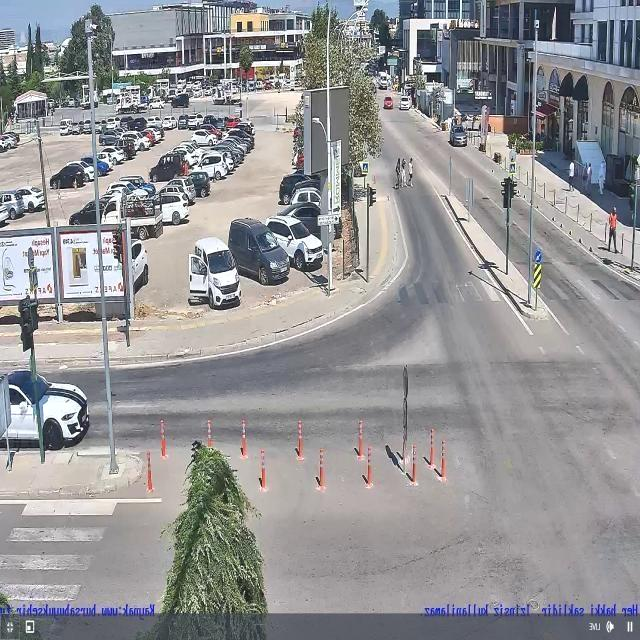Car: (0, 366, 93, 450), (449, 126, 468, 148), (399, 95, 408, 111), (383, 96, 393, 110)
